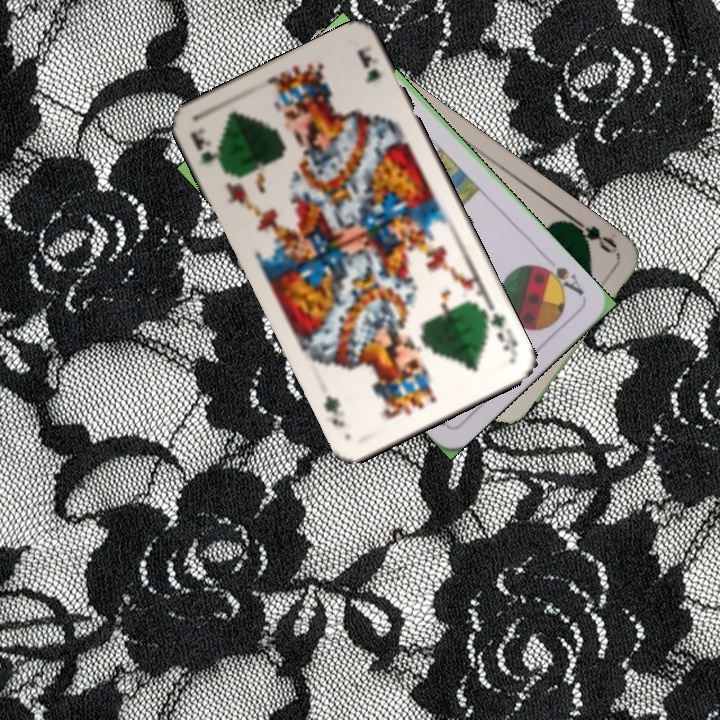GK: (476, 301, 521, 359), (186, 124, 229, 176)
GO: (565, 212, 620, 257)
SA: (534, 261, 587, 299)
